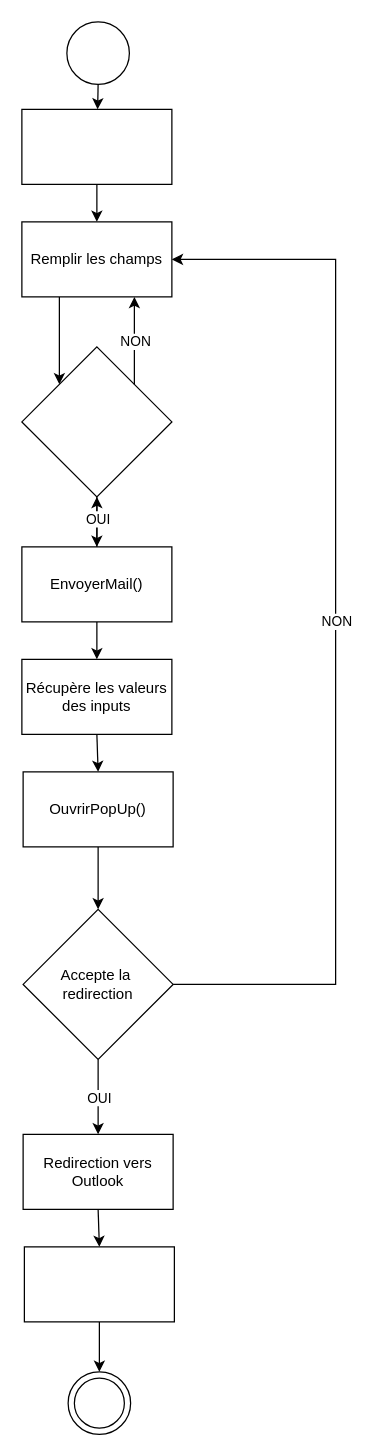
Image size: 373x1456. Some labels were removed from this diagram. Here are the shapes that lost their labels. From the top down, the centre of each, then its label:
the point at 96,146: Aller sur la page contacter
the point at 96,421: Clic sur le bouton Envoyer
the point at 98,1284: FermerPopUp()
